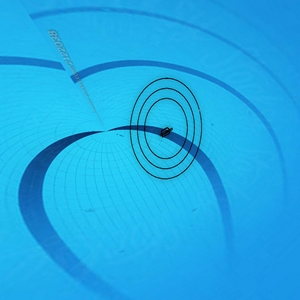submarine: (159, 127, 175, 138)
